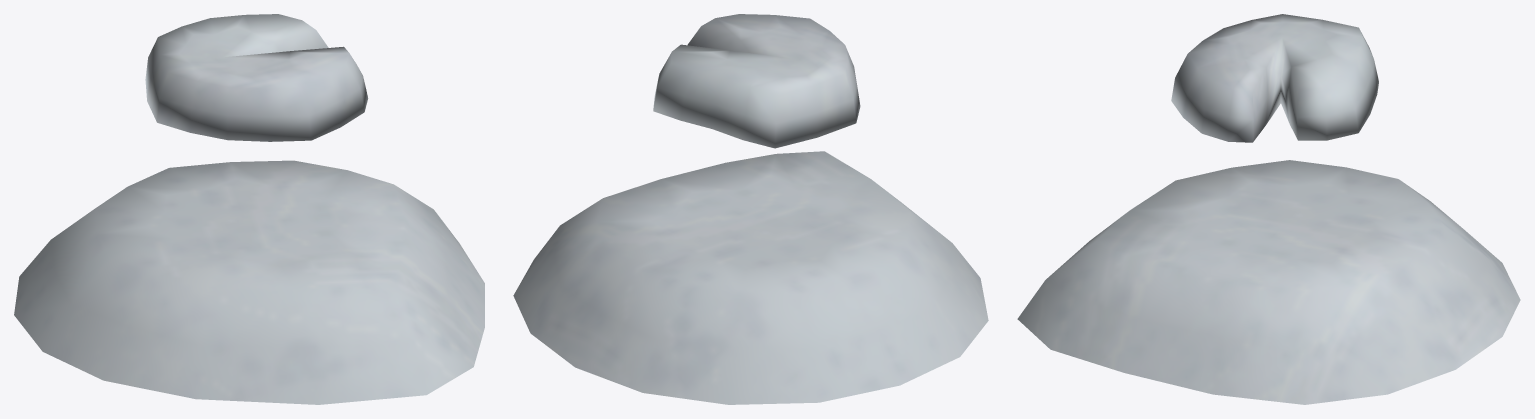
Rendered from WoddCutter_Snow.fbx.
The picture shows the model from 3 angles, left to right: view 1: azimuth 30°, elevation 25°; view 2: azimuth 150°, elevation 25°; view 3: azimuth 270°, elevation 25°; orthographic projection. The views are drawn at different scales.
Parts seen in each view (by area): view 1: WoddCutter_Snow; view 2: WoddCutter_Snow; view 3: WoddCutter_Snow.
Part boxes in pixels (left/top/right/bottom): WoddCutter_Snow: left=14, top=14, right=484, bottom=404; WoddCutter_Snow: left=513, top=14, right=988, bottom=404; WoddCutter_Snow: left=1017, top=14, right=1520, bottom=404.
Size of the model in its own units: 93.57 by 54.52 by 98.6.
